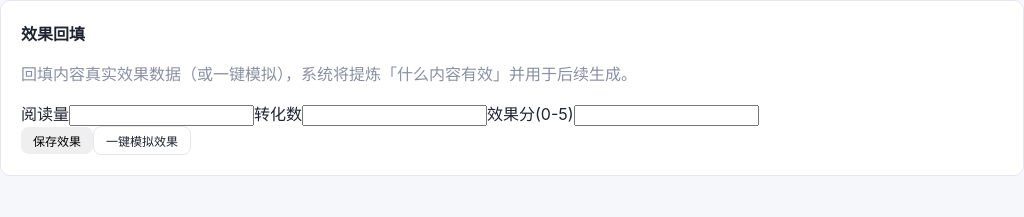
Test: FeedbackPanel › 渲染回填表单并可保存
The image size is (1024, 217).
Expected: the heading "效果回填" is shown, [21, 24, 85, 44]
Step 1. Type "1000" into the field labelled "阅读量" → (162, 116), box [69, 105, 254, 126]
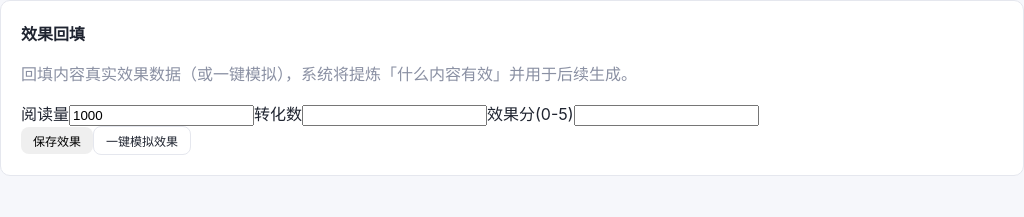
Step 2. Type "30" into the field labelled "转化数" → (394, 116), box [302, 105, 487, 126]
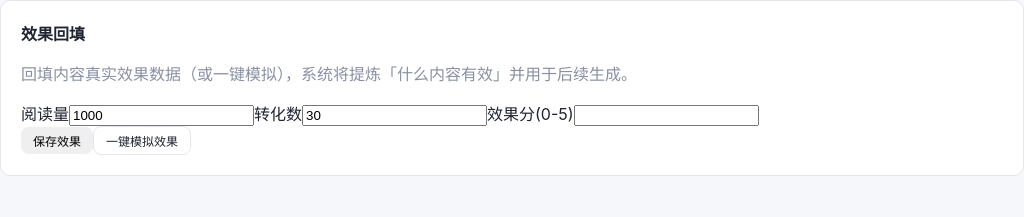
Step 3. Type "3.5" into the field labelled "效果分" → (666, 116), box [574, 105, 759, 126]
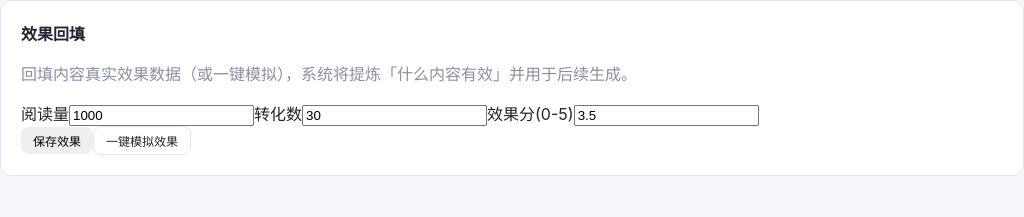
Step 4. Click the button "保存效果" → (57, 140), box [21, 127, 93, 154]
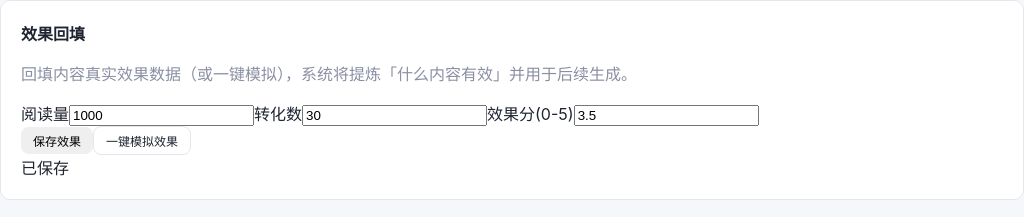
Now the text "已保存" is shown, box [21, 158, 69, 178]
